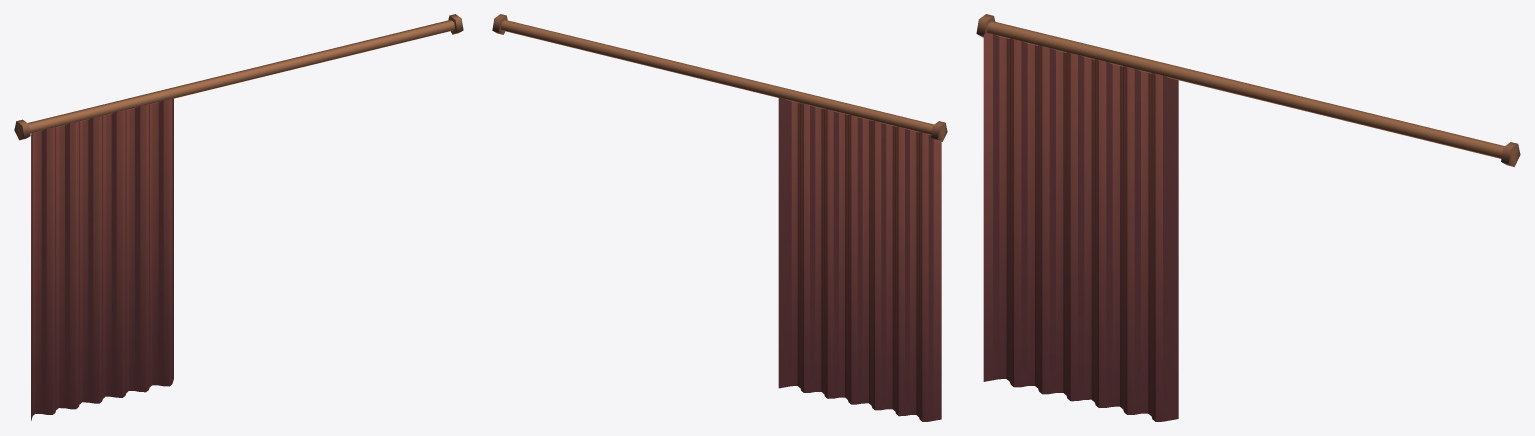
File: M_curtains.FBX
3 renders of one model, left to right at view 1: azimuth 30°, elevation 25°; view 2: azimuth 150°, elevation 25°; view 3: azimuth 330°, elevation 25°, orthographic. The views are drawn at different scales.
Parts seen in each view (by area): view 1: Cylinder016; view 2: Cylinder016; view 3: Cylinder016.
Boxes of the visible parts, bbox=[...] form: Cylinder016: bbox=[14, 14, 463, 420]; Cylinder016: bbox=[492, 14, 947, 421]; Cylinder016: bbox=[976, 14, 1520, 421].
Bounding box in the file's own units: 245 × 9.95 × 158.
